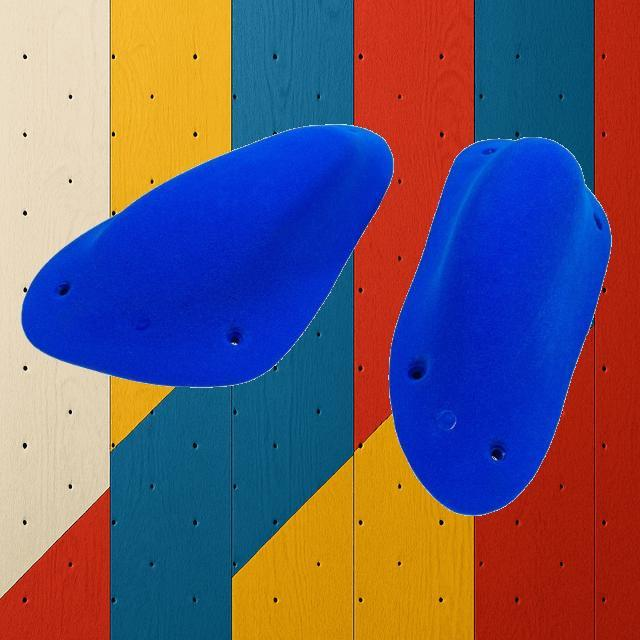Pinch: (21, 122, 393, 388), (388, 135, 612, 515)
